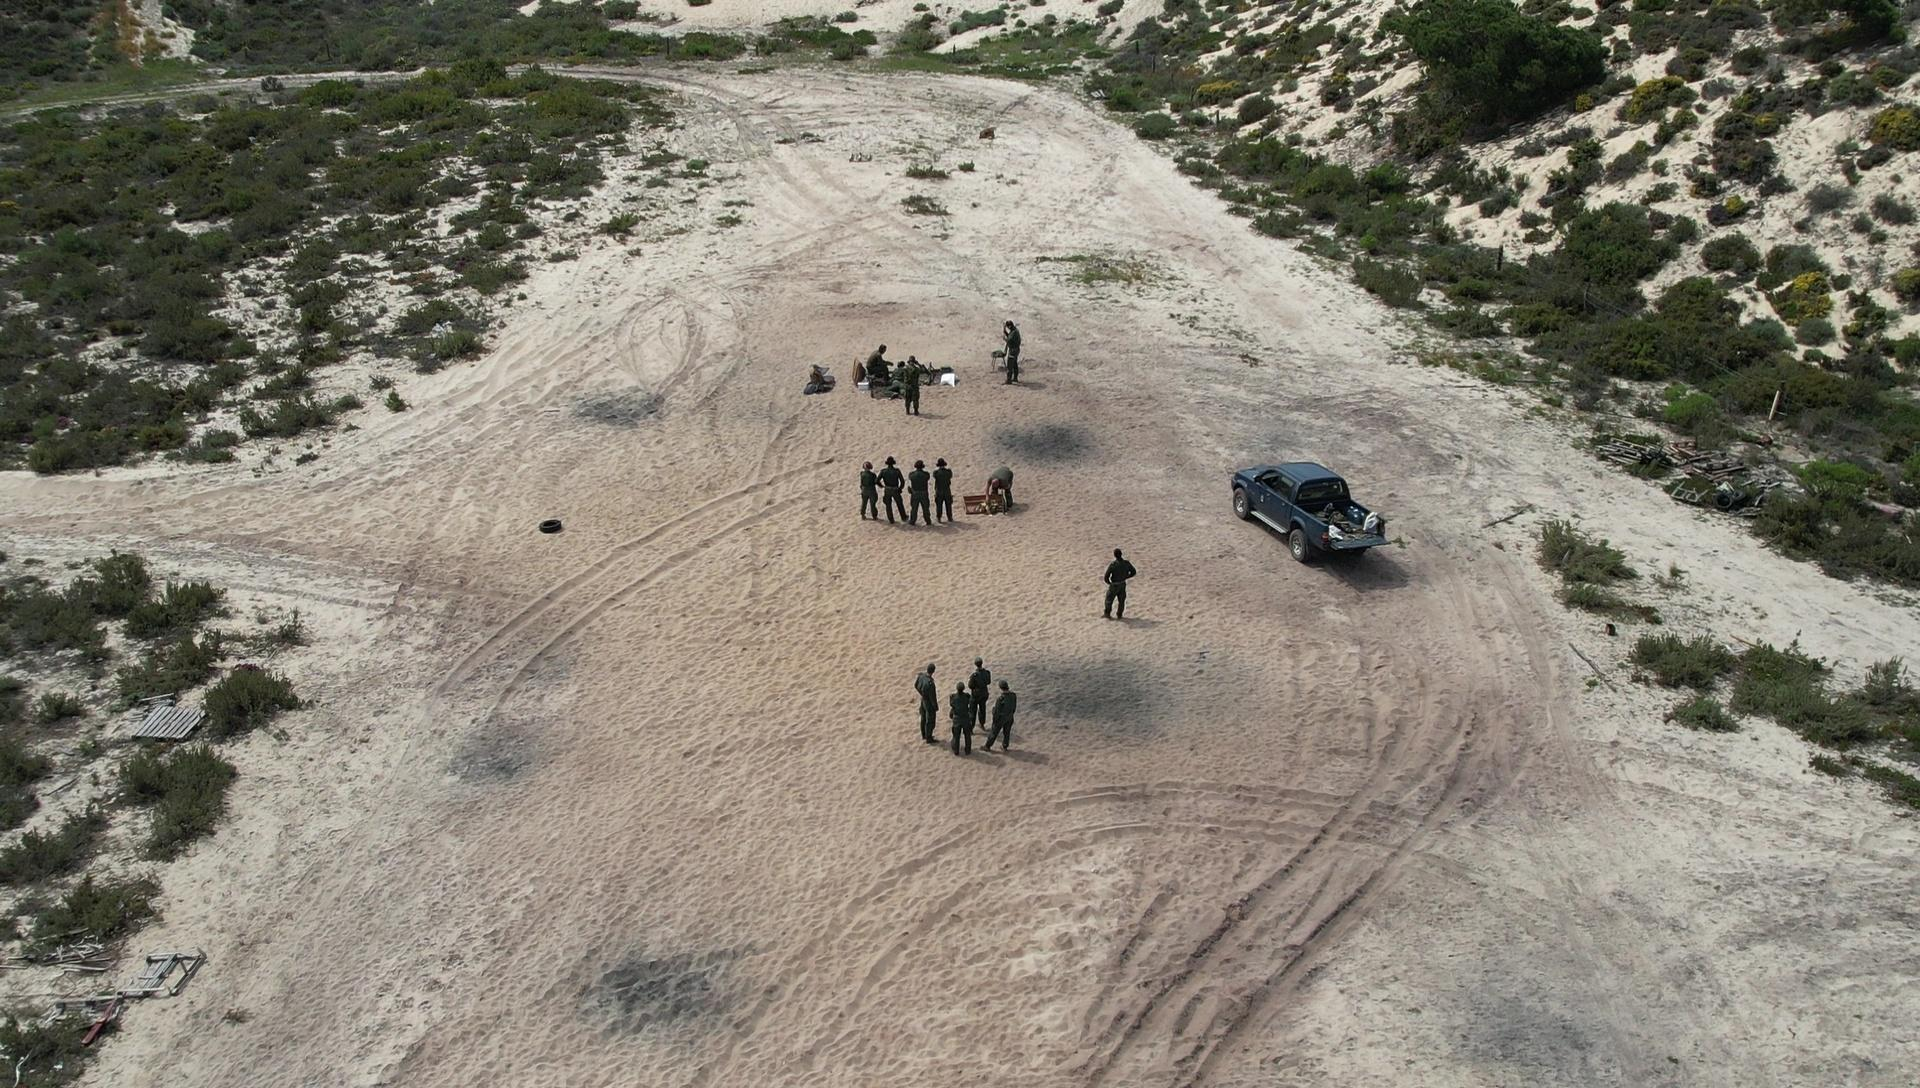Soldier: (1098, 539, 1141, 633), (910, 650, 947, 756), (985, 679, 1025, 762), (873, 454, 913, 535), (948, 675, 984, 764), (981, 452, 1021, 529), (997, 317, 1030, 396), (928, 456, 959, 534), (895, 355, 928, 425), (858, 452, 886, 533), (909, 455, 935, 538), (968, 658, 992, 732), (861, 340, 898, 382), (881, 365, 910, 402)
